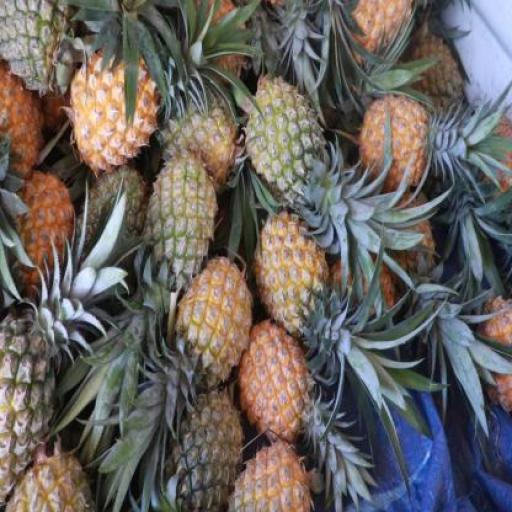------------------------------: (0, 312, 62, 506), (246, 80, 324, 208), (179, 258, 253, 389), (144, 154, 214, 288), (238, 324, 310, 450), (158, 97, 236, 185), (227, 434, 313, 511)
Pineapple - v8 v1: (72, 48, 158, 172), (254, 214, 328, 330), (361, 101, 432, 203), (0, 59, 42, 187)
